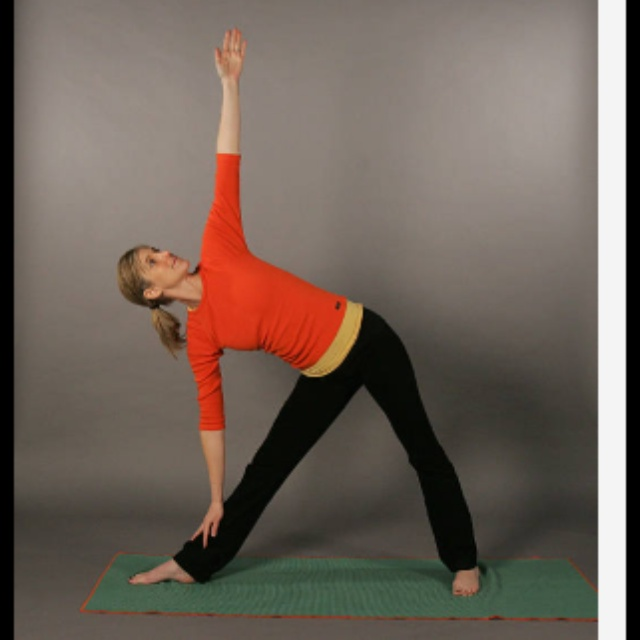Triangle_Pose: (100, 22, 497, 601)
